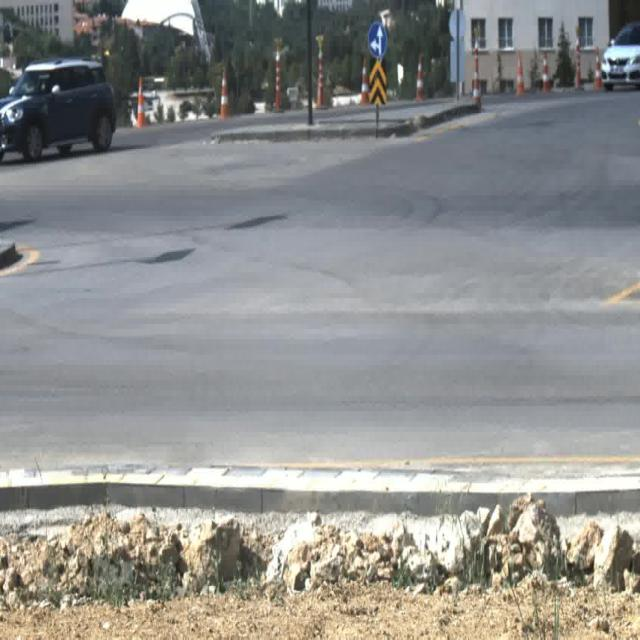Car: (0, 60, 116, 155), (600, 19, 640, 86)
